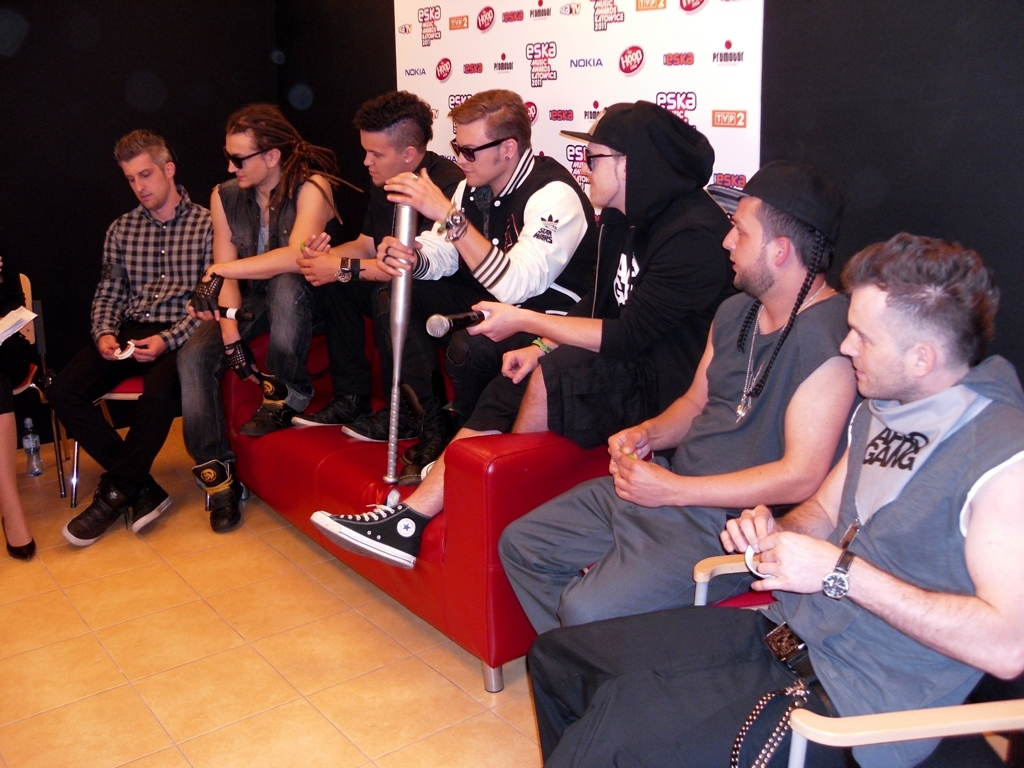Footwear: (307, 492, 434, 568), (58, 467, 132, 546), (239, 362, 313, 438), (189, 454, 245, 531), (288, 381, 373, 431), (126, 465, 171, 535), (345, 408, 431, 441), (0, 508, 42, 564), (385, 449, 434, 492)
